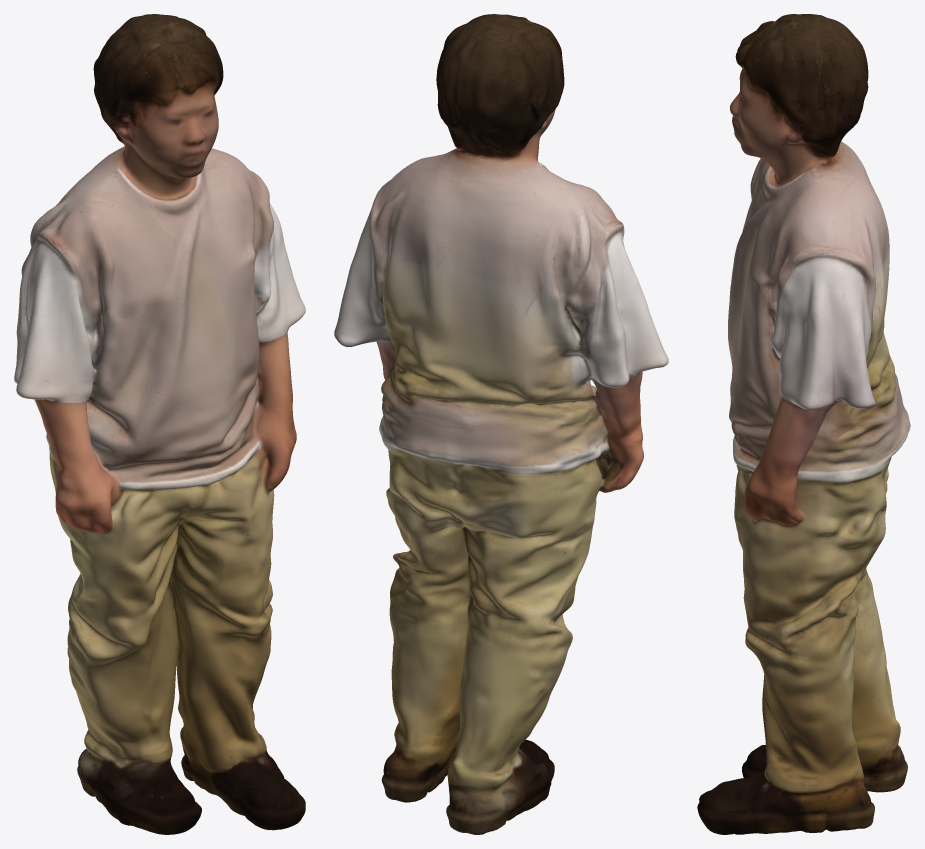
File: uema_standing.glb
3 views of the same model, side by side, from view 1: azimuth 30°, elevation 25°; view 2: azimuth 150°, elevation 25°; view 3: azimuth 270°, elevation 25° (orthographic). The views are drawn at different scales.
Visible parts, largest first — view 1: world; view 2: world; view 3: world.
Boxes of the visible parts, <box> form: world: <box>14,14,305,834</box>; world: <box>334,14,668,834</box>; world: <box>697,14,910,834</box>.
Size of the model in its own units: 0.4038 by 1 by 0.2508.
1 material, 1 textured.
